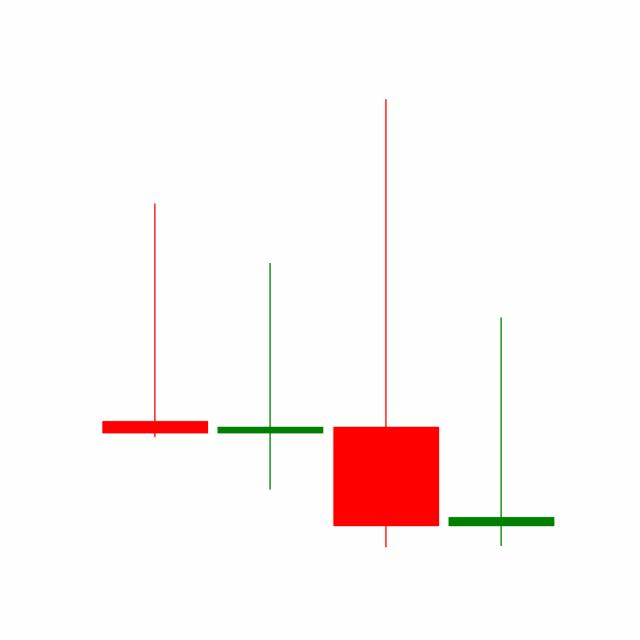Gravestone Doji: (443, 314, 559, 548)
